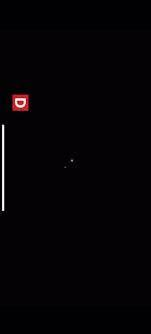Plane: (59, 149, 83, 178)
